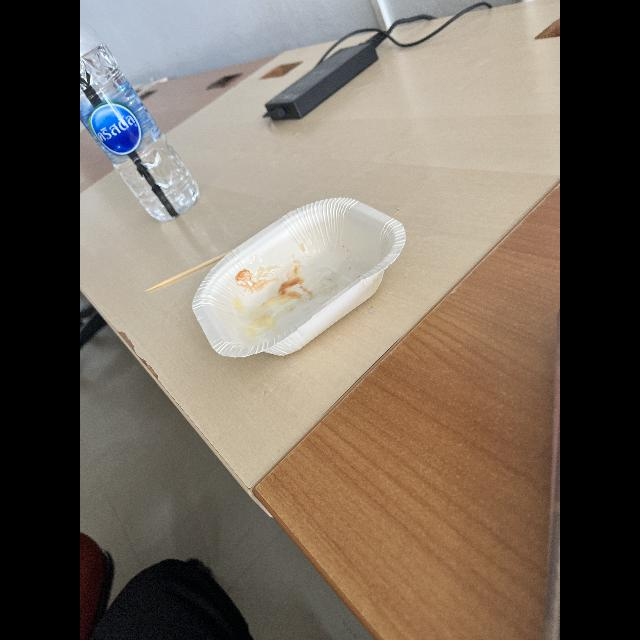cardboard_bowl: (193, 188, 405, 364)
stick: (150, 243, 232, 290)
